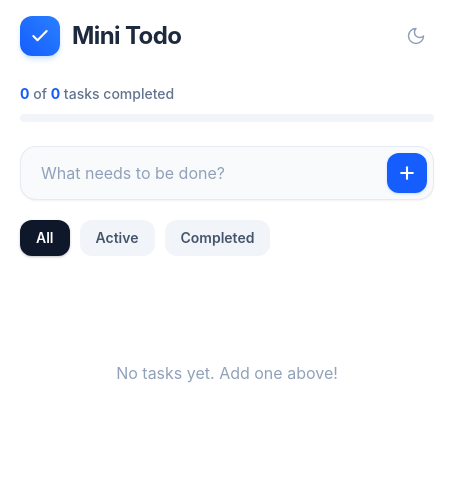
Test: CRUD — Edit Task › saves edited text and trims whitespace when user presses Enter
This screenshot has width=455, height=485.
In the field with placeholder "What needs to be done?": (214, 173) 41,157 -> 387,189, type "Old text"
Then press Enter
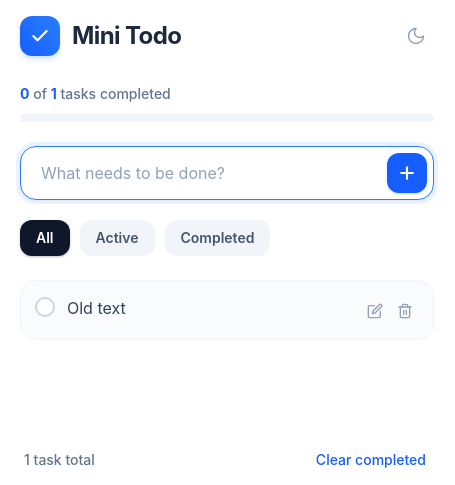
Click the button named "edit \"Old text\"": (375, 311) 361,297 -> 389,325
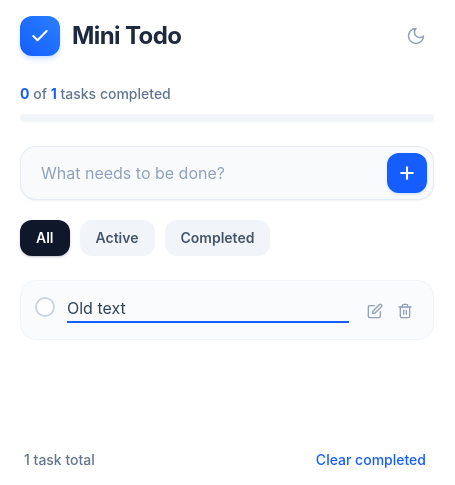
Replace the text in the field named "edit task text" with "   New text   ": (208, 309) 67,295 -> 349,323
Then press Enter
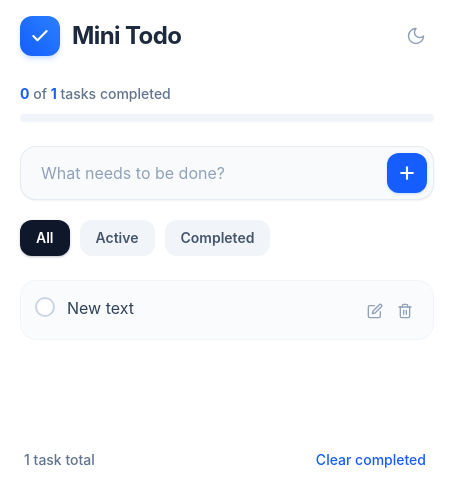
Expected: the text "Old text" is not shown
Result: the text "New text" is shown at 67,298 -> 134,318
